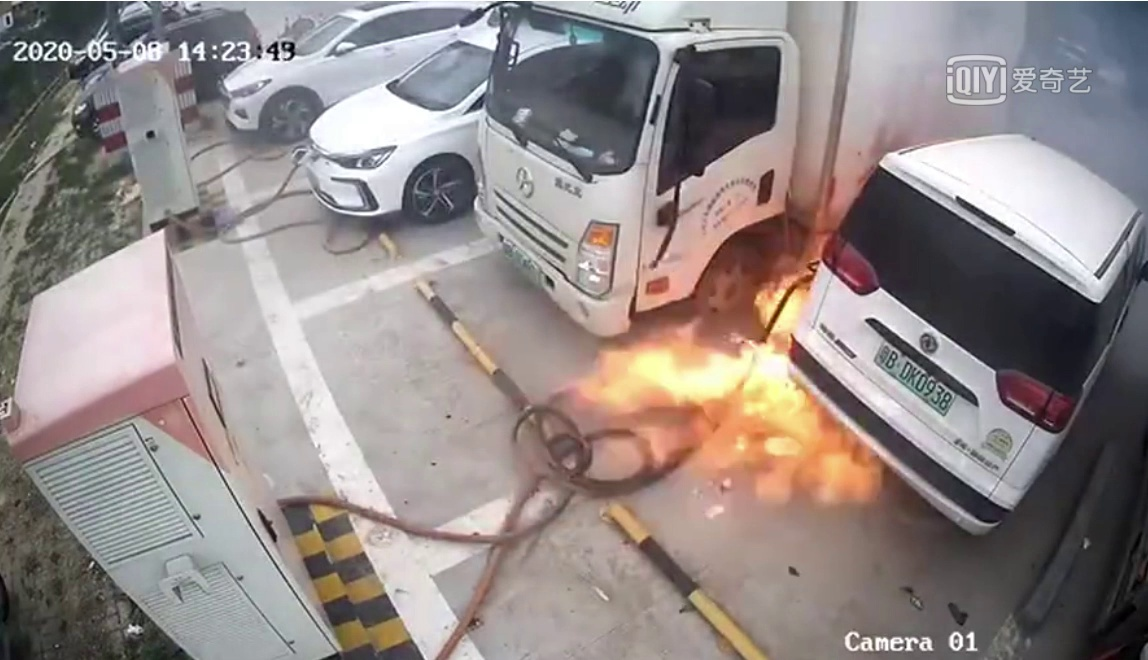fire: (593, 306, 861, 506)
